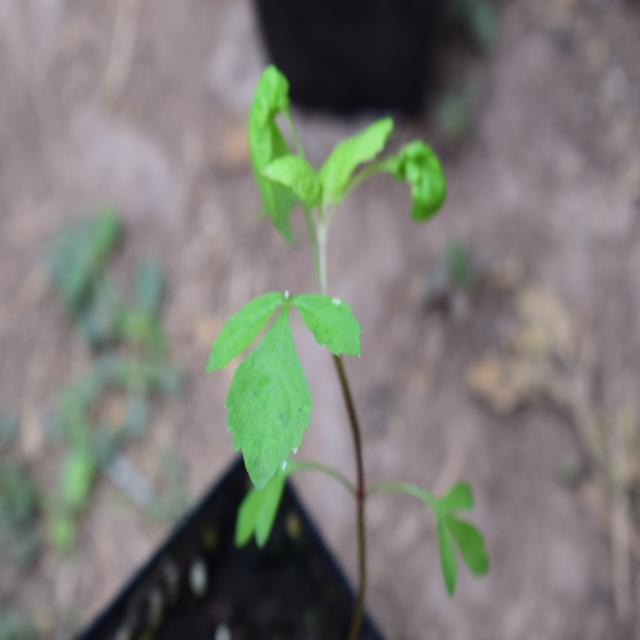Bidens pilosa: (200, 58, 477, 564)
